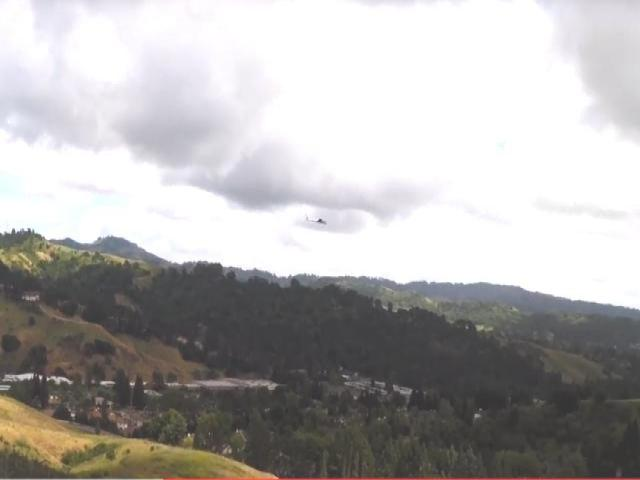iha: (304, 213, 329, 226)
